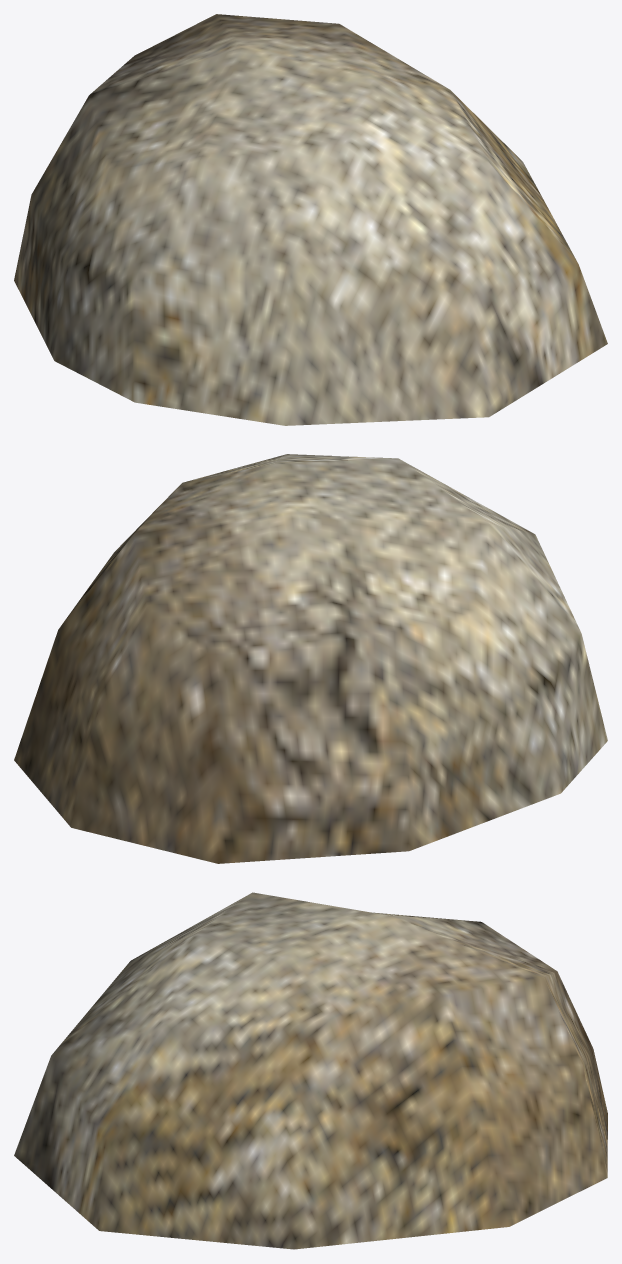
File: TER_Stones_3.FBX
3 views of the same model, one above another, from view 1: azimuth 30°, elevation 25°; view 2: azimuth 150°, elevation 25°; view 3: azimuth 270°, elevation 25° (orthographic). The views are drawn at different scales.
Visible parts, largest first — view 1: Stone; view 2: Stone; view 3: Stone.
Boxes of the visible parts, x1,y1,x2,y2 form: Stone: (14, 14, 607, 425); Stone: (14, 454, 607, 863); Stone: (14, 892, 607, 1249).
Bounding box in the file's own units: 22.9 × 10.79 × 26.55.
